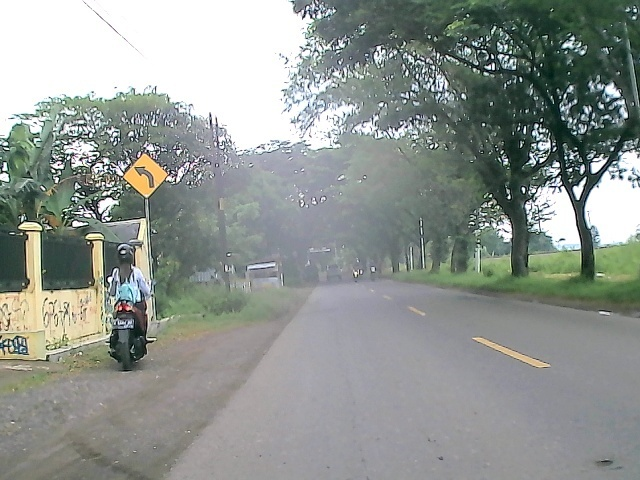Tikungan ke kiri: (119, 151, 173, 199)
